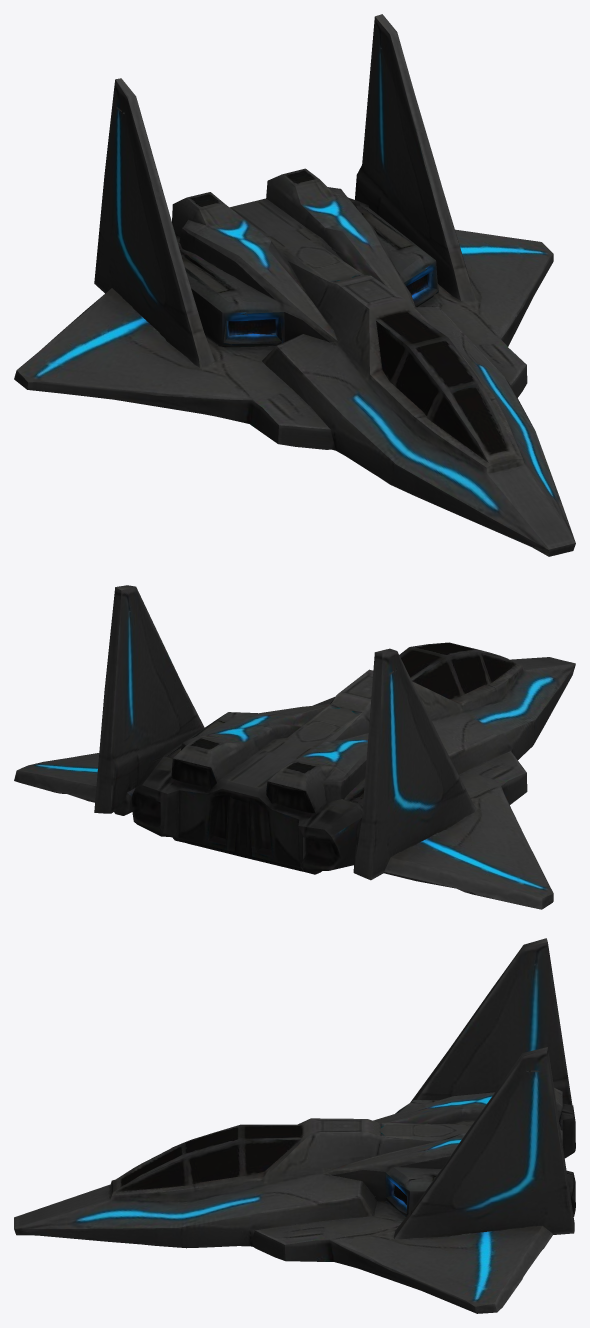
Rendered from nave_04.obj.
3 renders of one model, top to bottom at view 1: azimuth 30°, elevation 25°; view 2: azimuth 150°, elevation 25°; view 3: azimuth 270°, elevation 25°, orthographic. The views are drawn at different scales.
Parts seen in each view (by area): view 1: geometry_0; view 2: geometry_0; view 3: geometry_0.
Part boxes in pixels (x1,y1,x2,y2): geometry_0: (14,14,575,556); geometry_0: (14,585,575,909); geometry_0: (14,938,575,1313).
Bounding box in the file's own units: 6.45 × 3.39 × 7.
Materials: 1 (1 with a texture image).
